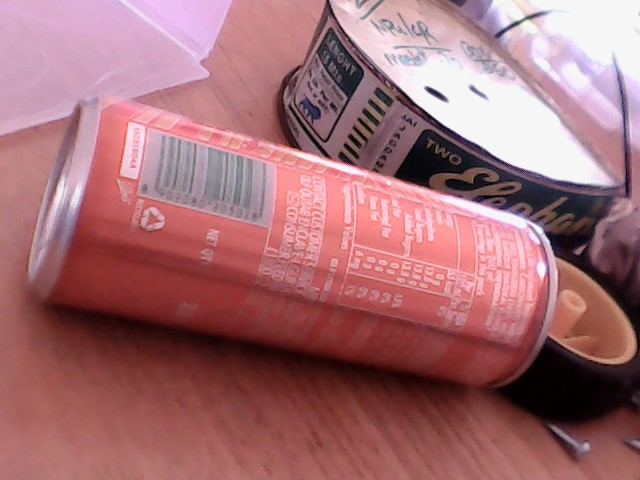Metal: (44, 83, 551, 412)
